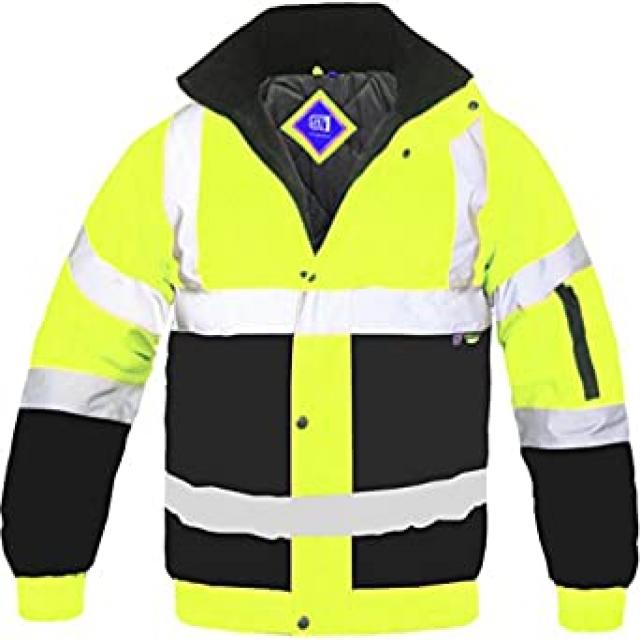Reflective-Jacket: (18, 26, 632, 630)
